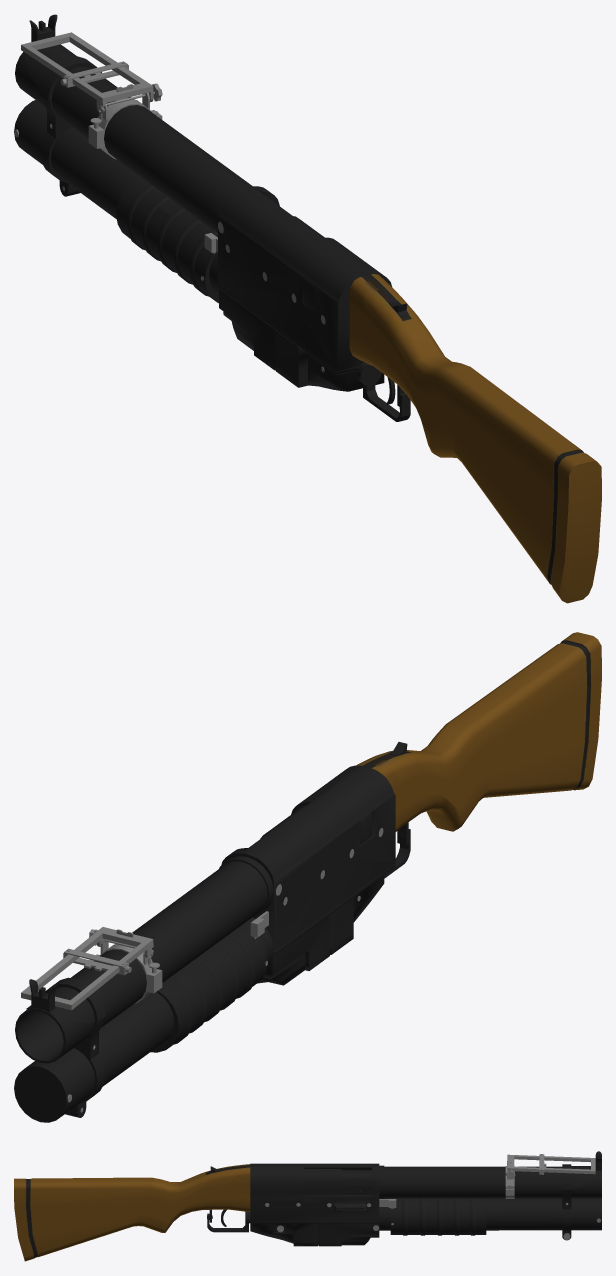
The model's file is china_lake_colored.glb.
3 views of the same model, one above another, from view 1: azimuth 30°, elevation 25°; view 2: azimuth 150°, elevation 25°; view 3: azimuth 270°, elevation 25° (orthographic). The views are drawn at different scales.
Visible parts, largest first — view 1: defaultMaterial (×9); view 2: defaultMaterial (×8); view 3: defaultMaterial (×9).
Boxes of the visible parts, left/top/right/bottom form: defaultMaterial (×9): left=14, top=14, right=601, bottom=603; defaultMaterial (×8): left=14, top=632, right=601, bottom=1122; defaultMaterial (×9): left=14, top=1151, right=601, bottom=1261.
Size of the model in its own units: 0.1531 by 0.3927 by 2.
1 material, 1 textured.
